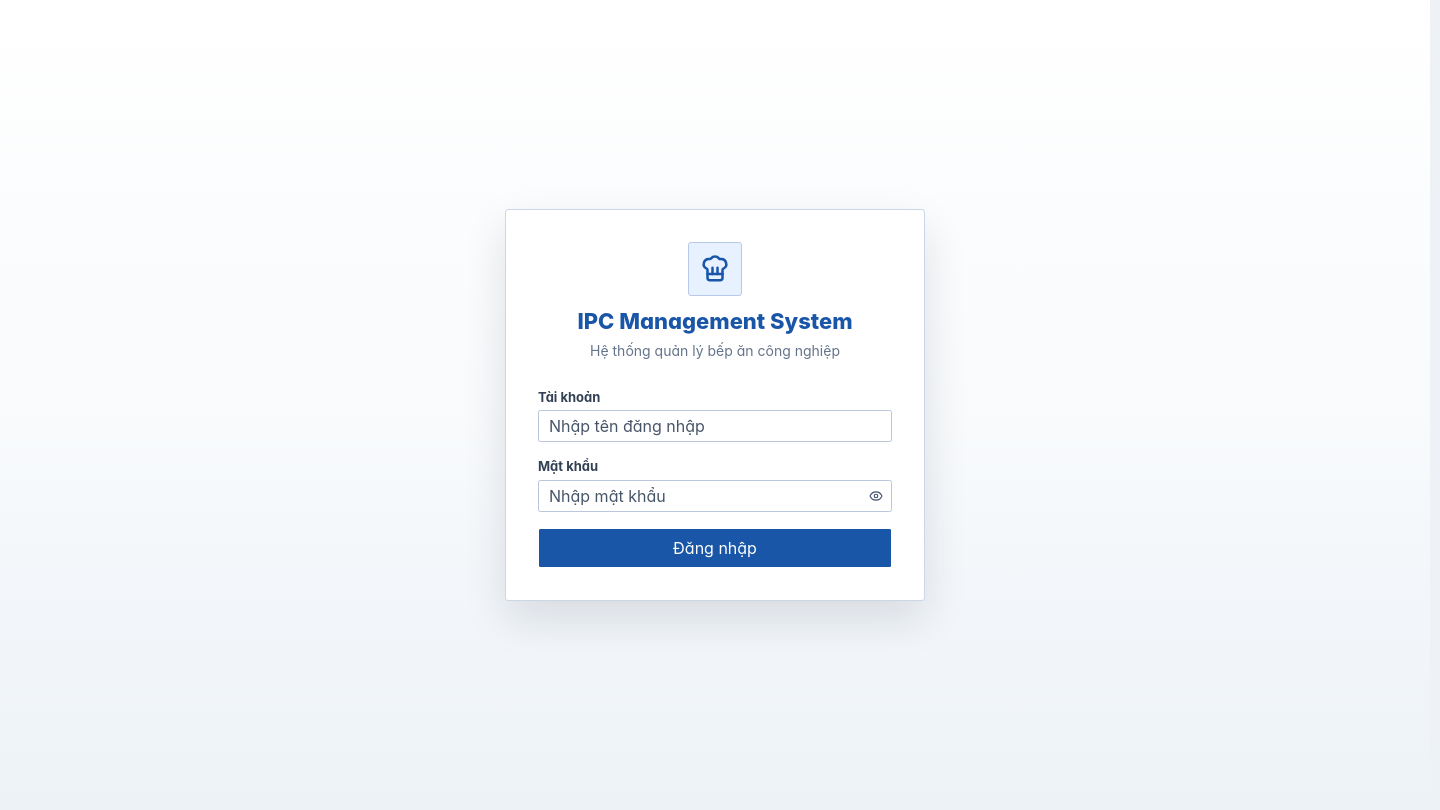
LoginPage validation feedback › explains invalid credentials instead of suggesting a connection failure for a 401 response
This screenshot has width=1440, height=810.
Type "quanly" into the field labelled "Tài khoản".
click(715, 426); type("quanly")  # box [538,410,892,442]
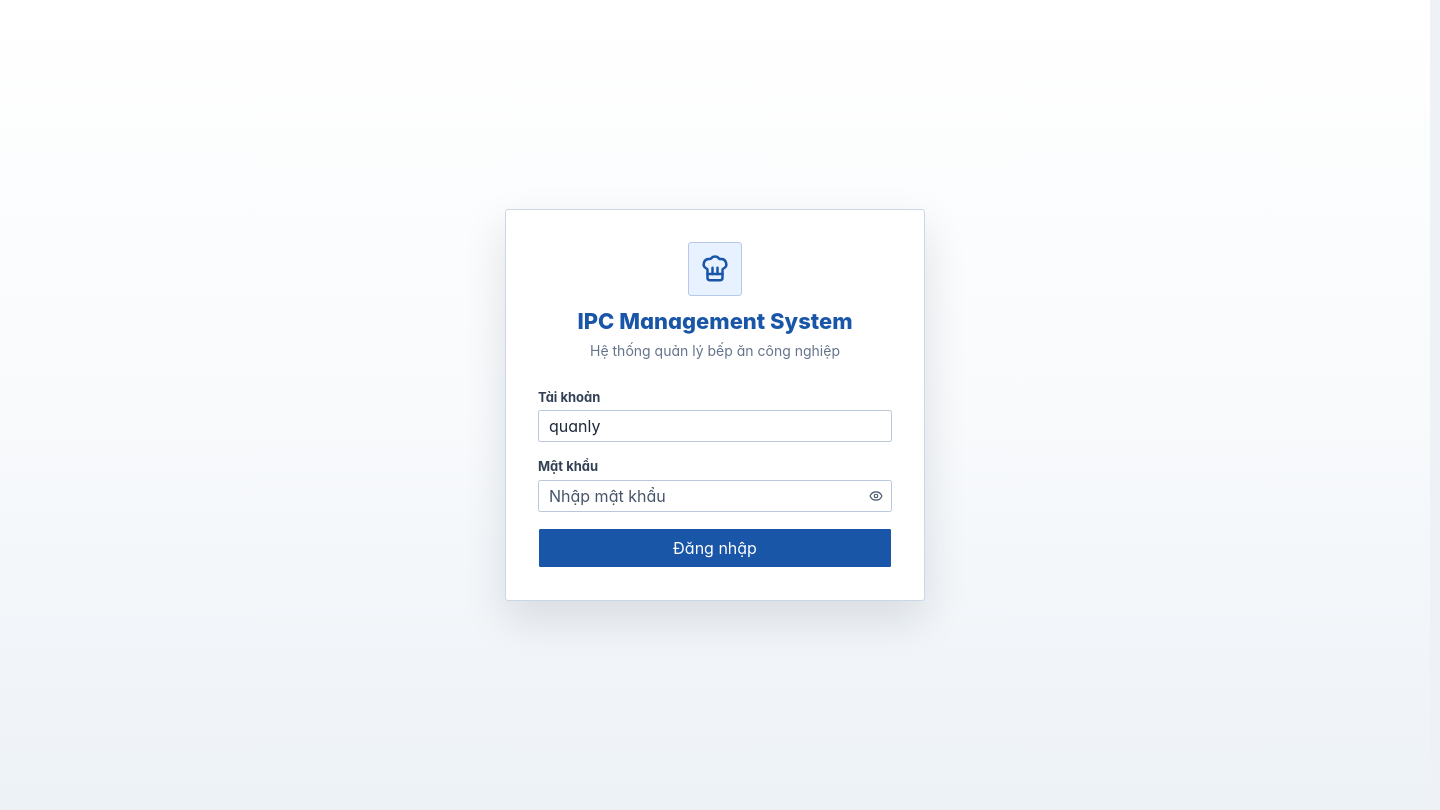
Type "wrong-password" into the password field labelled "Mật khẩu".
click(715, 496); type("wrong-password")  # box [538,480,892,512]
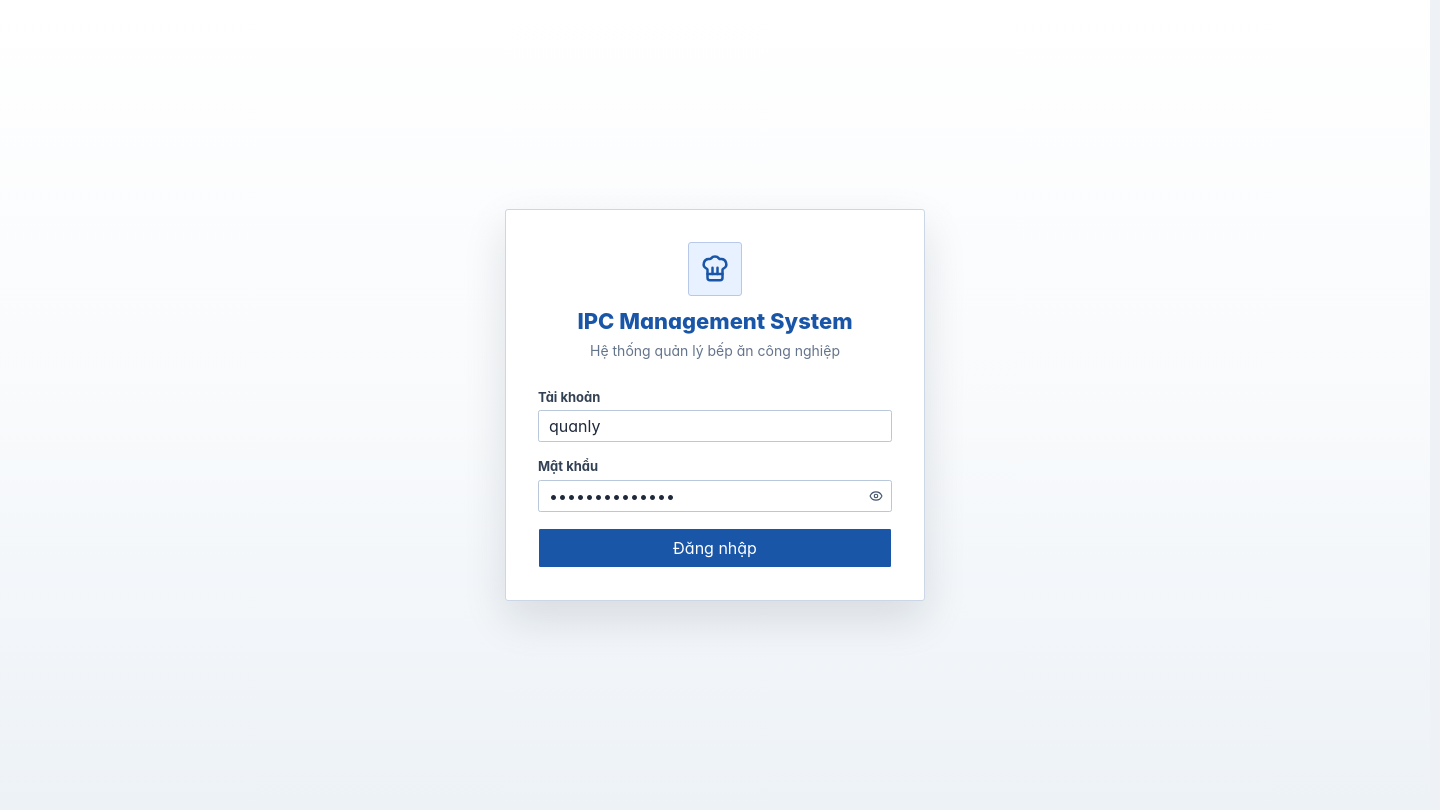
Click the button "Đăng nhập".
click(715, 548)  # box [538,528,892,568]
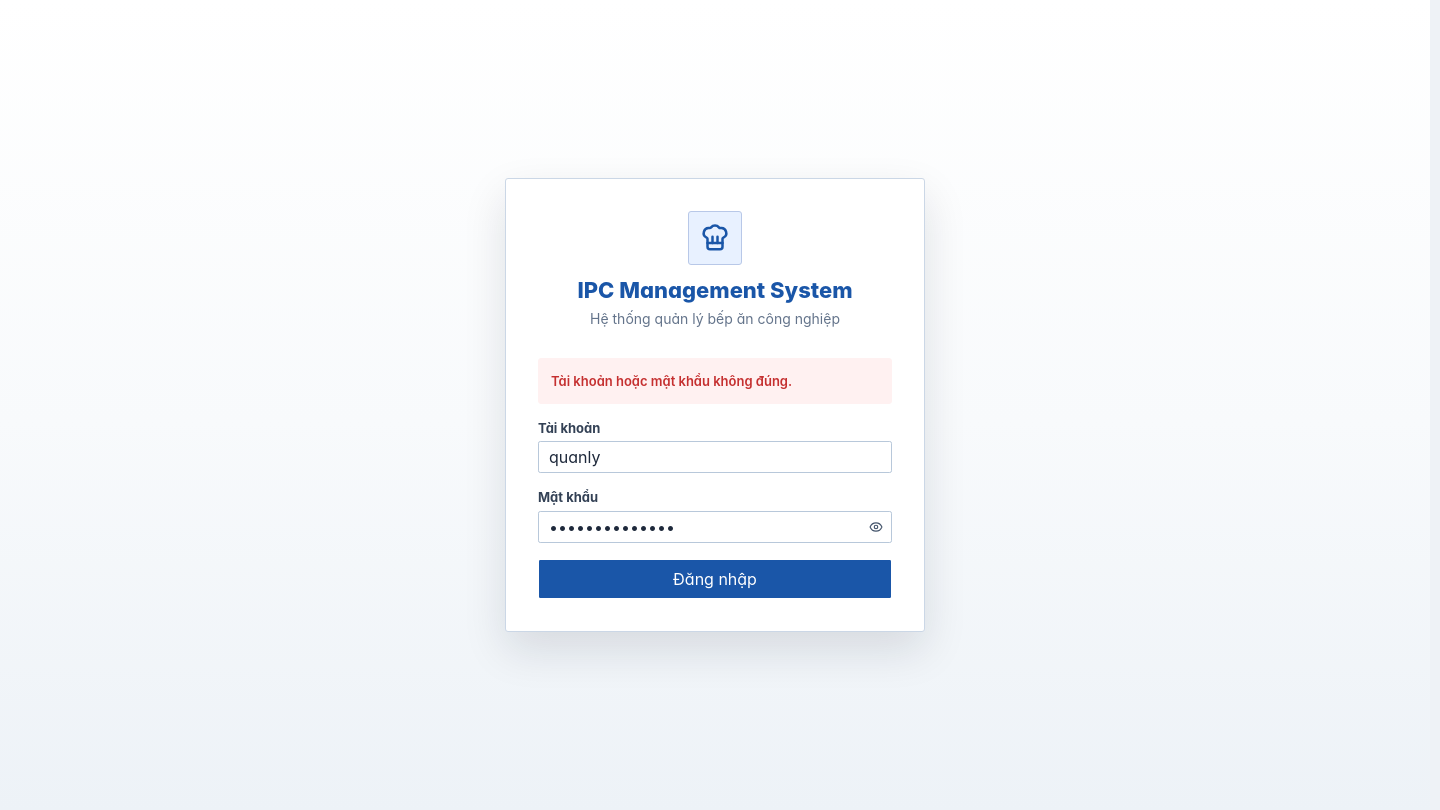
Now the message reads "Tài khoản hoặc mật khẩu không đúng.", box [551,373,792,389]
